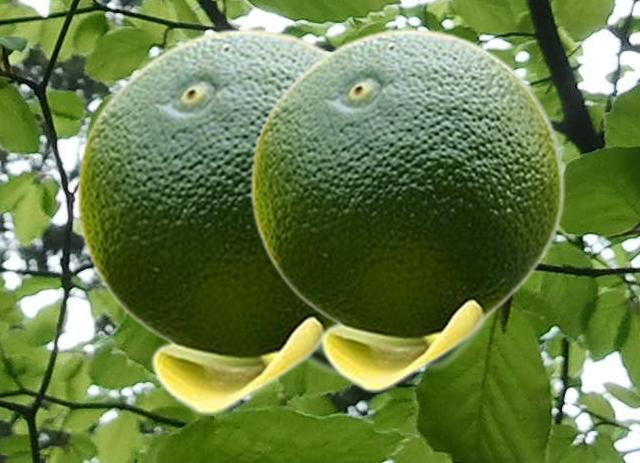calamansi: (250, 28, 564, 391), (76, 28, 332, 414), (298, 305, 505, 378)
